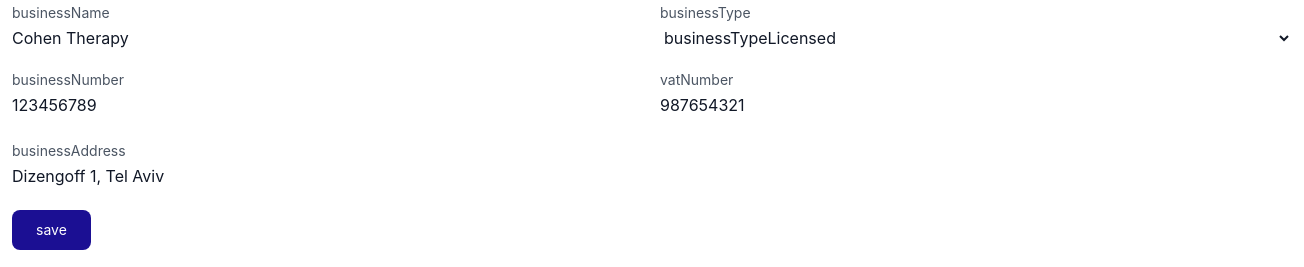
Test: B. Save flow › B5: saved message disappears when user edits a field after saving
Submit the form
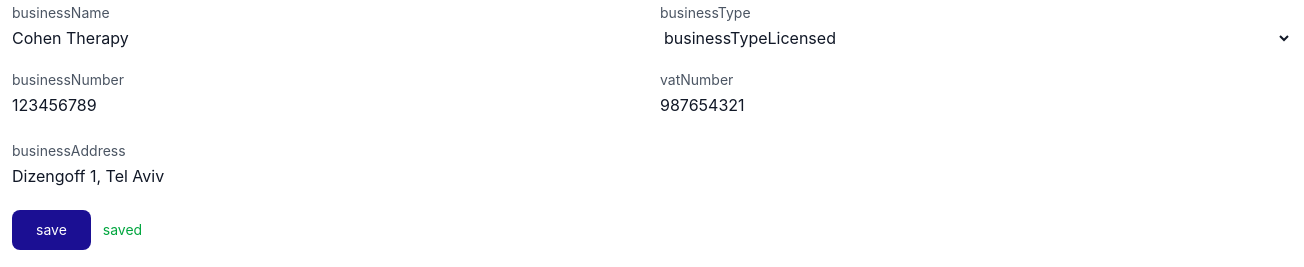
Expected: the text "saved" is shown, x1=103 y1=220 x2=142 y2=240
Replace the text in the field with placeholder "businessNamePlaceholder" below "businessName" with "Changed Name" at (328, 38), box x1=12 y1=26 x2=644 y2=51
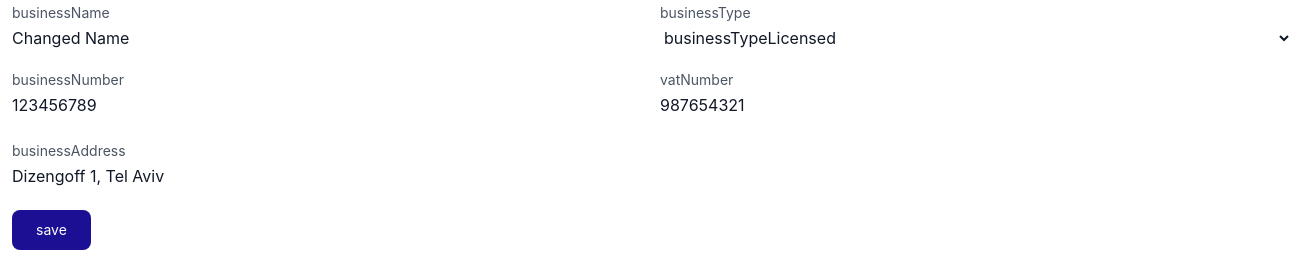
Expected: the text "saved" is gone
